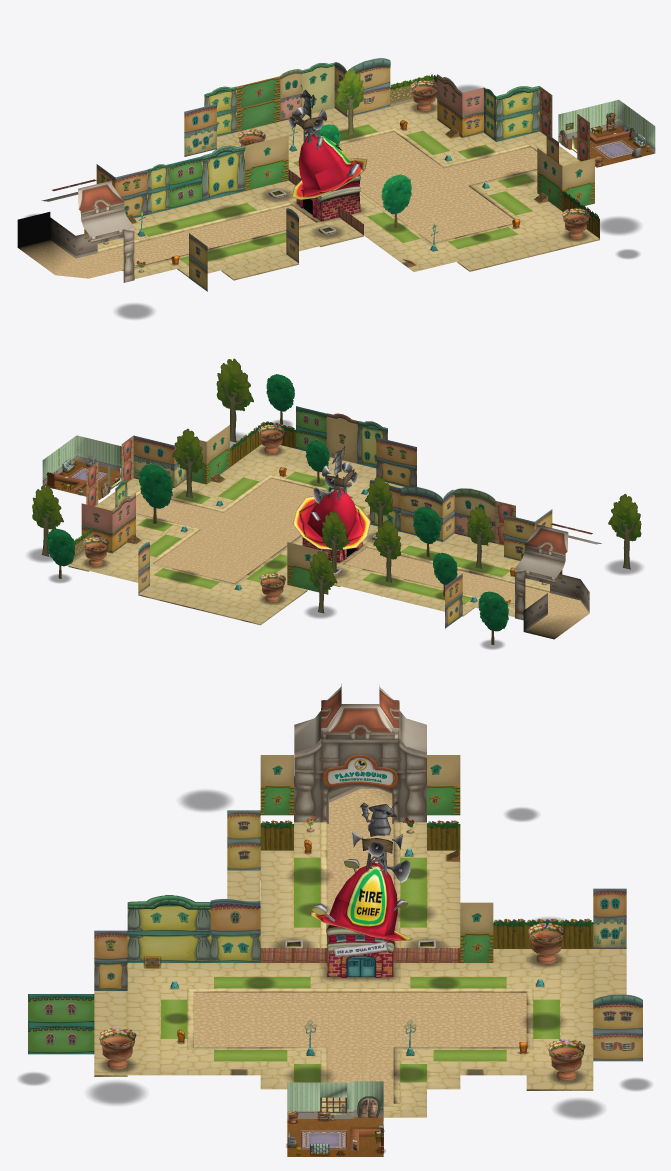
File: toontorial.glb
The picture shows the model from 3 angles, top to bottom: view 1: azimuth 30°, elevation 25°; view 2: azimuth 150°, elevation 25°; view 3: azimuth 270°, elevation 25°; orthographic projection. The views are drawn at different scales.
Parts seen in each view (by area): view 1: wall_md_pillars_ur (×6), wall_sm_brick_ur (×4), wall_md_dental_ur (×6), interior_corner_w_grass_sidewalk (×4), shadow, street_street_20x20_street (×4), tunnel_down_entrance, exterior_corner_w_grass_street (×2), wall_lg_brick_ur (×2), street_sidewalk_10x20_sidewalk (×4), tunnel_floor, street_grass_transition_60x20_sidewalk (×2) (+24 smaller); view 2: wall_md_dental_ur (×7), interior_corner_w_grass_sidewalk (×4), p273_6__billboard (×4), shadow, p265_2__billboard (×4), street_street_20x20_street (×4), wall_md_pillars_ur (×4), p273_7__billboard (×3), tunnel_down_entrance, street_sidewalk_10x40_sidewalk (×3), exterior_corner_w_grass_street (×2), p263_2__billboard (×3) (+22 smaller); view 3: interior_corner_w_grass_sidewalk (×4), wall_md_pillars_ur (×3), shadow, wall_md_dental_ur (×3), street_street_20x20_street (×4), safe_zone_entrance_front, wall_sm_brick_ur (×3), exterior_corner_w_grass_street (×2), tunnel_down_entrance, street_grass_transition_60x20_sidewalk (×2), street_sidewalk_10x40_sidewalk (×3), street_w_grass_30x20_street (×4) (+25 smaller).
Boxes of the visible parts, x1=… form: wall_md_pillars_ur (×6): x1=115, y1=89, x2=539, y2=217; wall_sm_brick_ur (×4): x1=237, y1=76, x2=594, y2=210; wall_md_dental_ur (×6): x1=169, y1=65, x2=483, y2=291; interior_corner_w_grass_sidewalk (×4): x1=239, y1=101, x2=586, y2=271; shadow: x1=289, y1=107, x2=366, y2=222; street_street_20x20_street (×4): x1=346, y1=146, x2=484, y2=229; tunnel_down_entrance: x1=41, y1=179, x2=134, y2=282; exterior_corner_w_grass_street (×2): x1=397, y1=150, x2=510, y2=209; wall_lg_brick_ur (×2): x1=184, y1=72, x2=301, y2=156; street_sidewalk_10x20_sidewalk (×4): x1=243, y1=180, x2=599, y2=274; tunnel_floor: x1=18, y1=240, x2=120, y2=278; street_grass_transition_60x20_sidewalk (×2): x1=132, y1=191, x2=319, y2=276; wall_md_dental_ur (×7): x1=81, y1=406, x2=534, y2=593; interior_corner_w_grass_sidewalk (×4): x1=89, y1=450, x2=404, y2=610; p273_6__billboard (×4): x1=32, y1=358, x2=494, y2=613; shadow: x1=293, y1=462, x2=370, y2=563; p265_2__billboard (×4): x1=47, y1=464, x2=508, y2=644; street_street_20x20_street (×4): x1=186, y1=492, x2=304, y2=570; wall_md_pillars_ur (×4): x1=357, y1=424, x2=462, y2=628; p273_7__billboard (×3): x1=172, y1=428, x2=641, y2=582; tunnel_down_entrance: x1=515, y1=523, x2=601, y2=620; street_sidewalk_10x40_sidewalk (×3): x1=158, y1=452, x2=376, y2=625; exterior_corner_w_grass_street (×2): x1=161, y1=495, x2=267, y2=552; p263_2__billboard (×3): x1=266, y1=374, x2=441, y2=557; interior_corner_w_grass_sidewalk (×4): x1=127, y1=963, x2=593, y2=1075; wall_md_pillars_ur (×3): x1=94, y1=904, x2=260, y2=990; shadow: x1=310, y1=823, x2=411, y2=980; wall_md_dental_ur (×3): x1=28, y1=810, x2=642, y2=1061; street_street_20x20_street (×4): x1=227, y1=1006, x2=493, y2=1034; safe_zone_entrance_front: x1=294, y1=738, x2=426, y2=823; wall_sm_brick_ur (×3): x1=260, y1=755, x2=493, y2=962; exterior_corner_w_grass_street (×2): x1=260, y1=1034, x2=460, y2=1076; tunnel_down_entrance: x1=294, y1=684, x2=426, y2=782; street_grass_transition_60x20_sidewalk (×2): x1=260, y1=850, x2=460, y2=934; street_sidewalk_10x40_sidewalk (×3): x1=94, y1=949, x2=626, y2=1047; street_w_grass_30x20_street (×4): x1=194, y1=992, x2=526, y2=1034.
Size of the model in its own units: 264 by 52.01 by 193.
118 materials, 111 textured.
